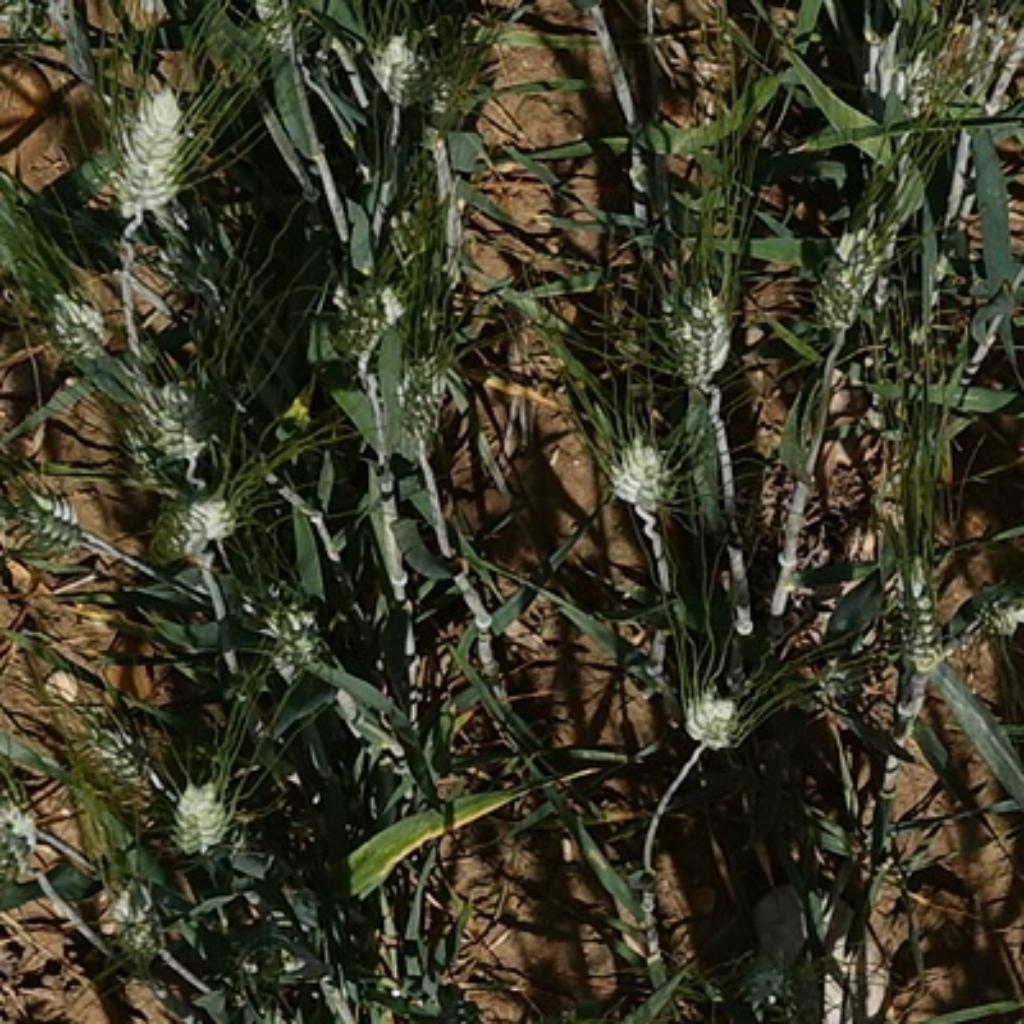0-0: (798, 202, 916, 340), (230, 570, 358, 693), (642, 253, 755, 391), (92, 74, 199, 217), (56, 700, 167, 824), (117, 355, 235, 463), (796, 614, 901, 724), (371, 335, 465, 453), (588, 422, 698, 522), (89, 847, 181, 957), (2, 463, 102, 563), (140, 465, 245, 555), (358, 10, 448, 99), (28, 276, 117, 366), (878, 555, 947, 668), (233, 0, 343, 67), (326, 255, 397, 342), (670, 668, 747, 747), (2, 757, 46, 893), (955, 572, 1023, 653), (166, 770, 235, 849), (737, 960, 803, 1014)
